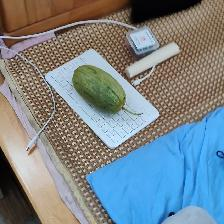gua: (73, 69, 127, 116)
